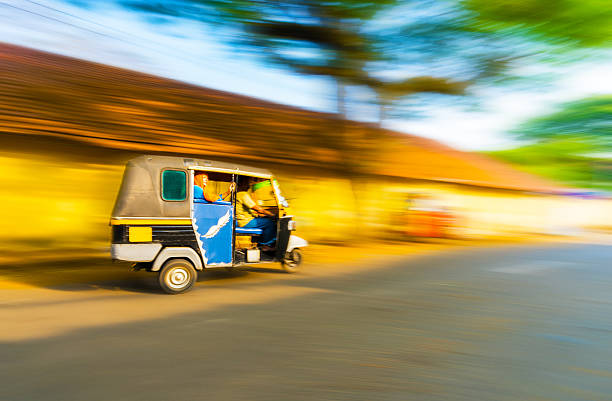threewheel: (109, 154, 307, 293)
